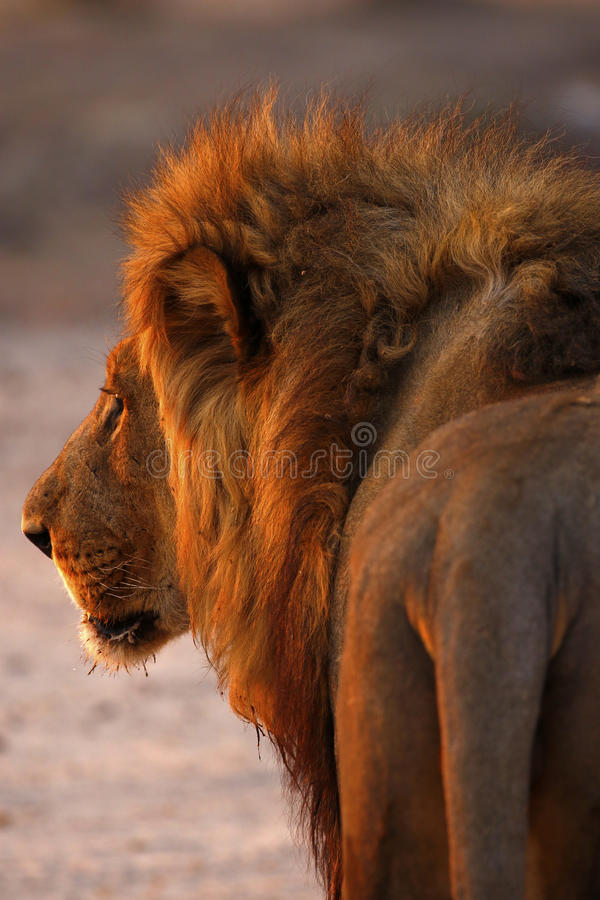lion: (19, 73, 600, 899)
